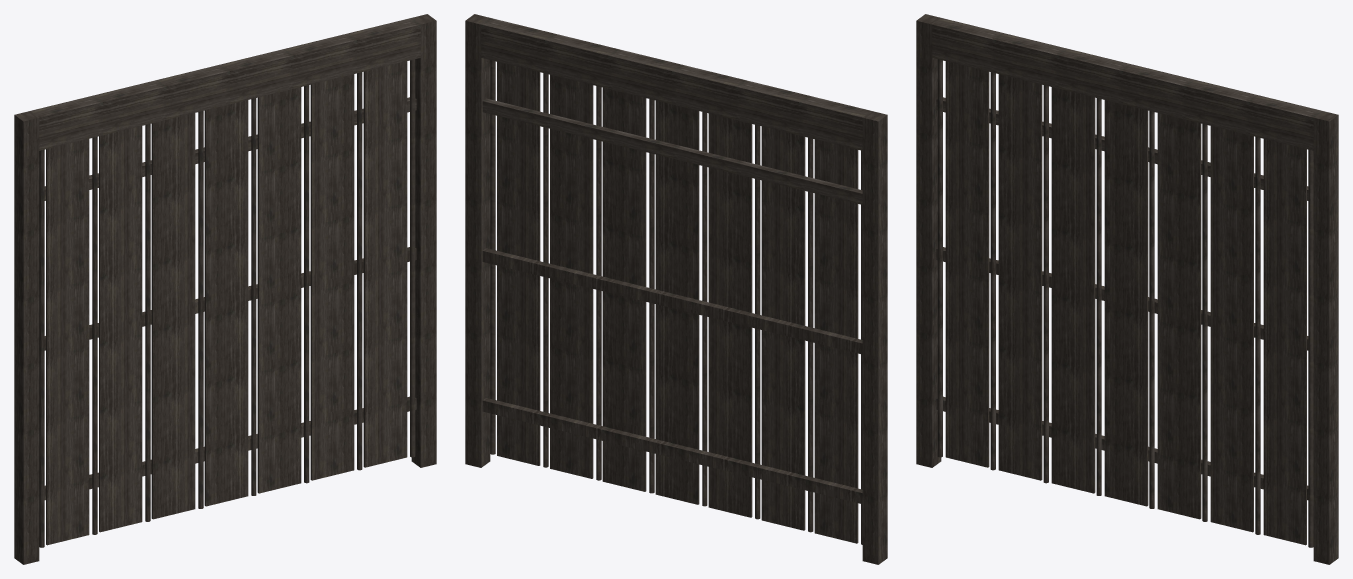
Rendered from ESyamatobei_h2000_blackebony.fbx.
3 renders of one model, left to right at view 1: azimuth 30°, elevation 25°; view 2: azimuth 150°, elevation 25°; view 3: azimuth 330°, elevation 25°, orthographic.
Parts seen in each view (by area): view 1: ESyamatobei_h2000_blackebony; view 2: ESyamatobei_h2000_blackebony; view 3: ESyamatobei_h2000_blackebony.
Part boxes in pixels (<box>): ESyamatobei_h2000_blackebony: <box>14,14,436,564</box>; ESyamatobei_h2000_blackebony: <box>465,14,887,564</box>; ESyamatobei_h2000_blackebony: <box>916,14,1338,564</box>.
Size of the model in its own units: 195 by 200 by 7.5.
1 material, 1 textured.
